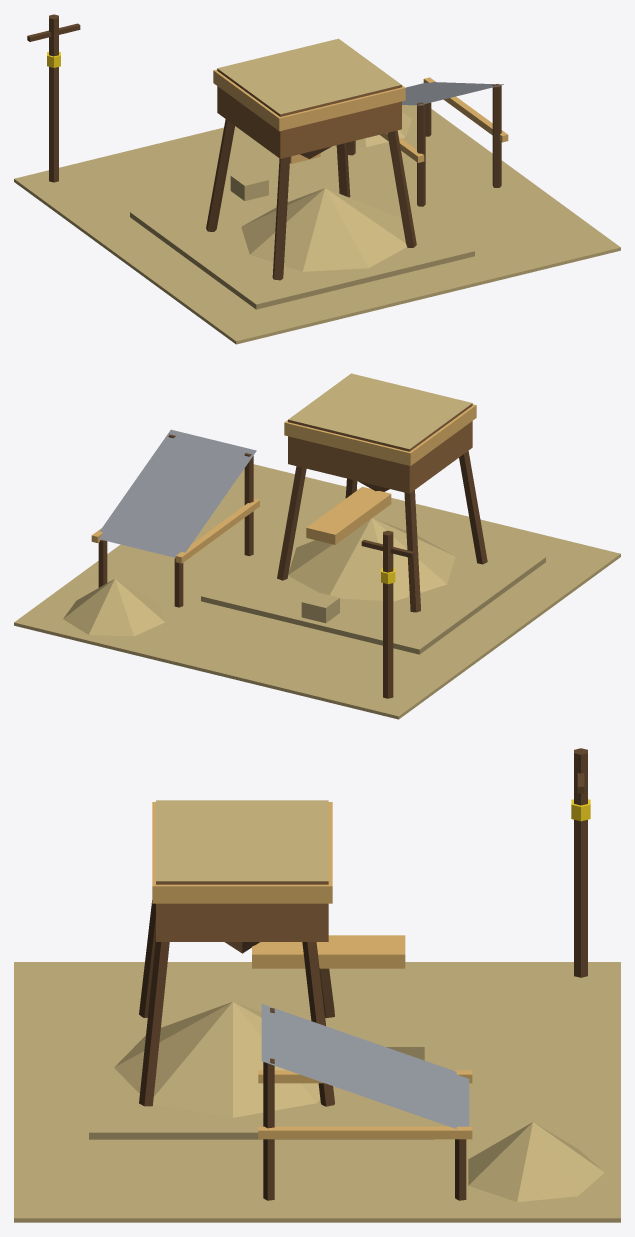
File: sand_collector_2.glb
3 renders of one model, top to bottom at view 1: azimuth 30°, elevation 25°; view 2: azimuth 150°, elevation 25°; view 3: azimuth 270°, elevation 25°, orthographic. The views are drawn at different scales.
Visible parts, largest first — view 1: sand_collector_2; view 2: sand_collector_2; view 3: sand_collector_2.
Part boxes in pixels (box(x1,y1,x2,y2)): sand_collector_2: box(14, 14, 620, 344); sand_collector_2: box(14, 373, 620, 719); sand_collector_2: box(14, 748, 620, 1222).
Bounding box in the file's own units: 3.8 × 1.6 × 3.8.
